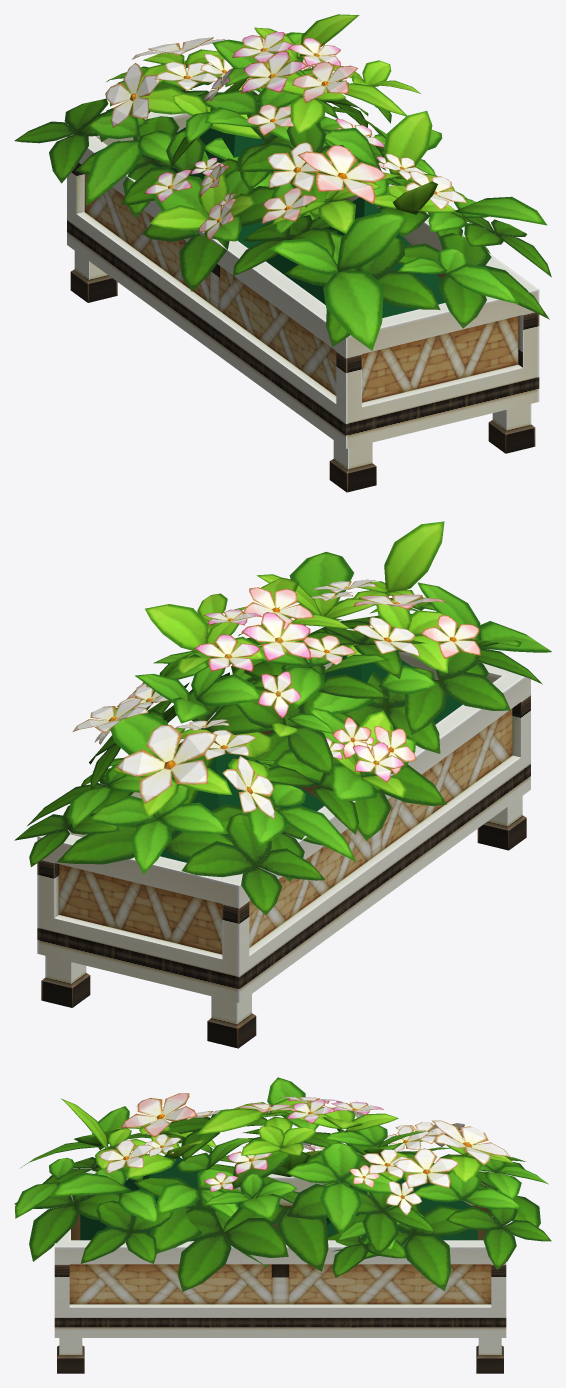
Rendered from my_sunshineresort_01_plantpot_04.glb.
The picture shows the model from 3 angles, top to bottom: view 1: azimuth 30°, elevation 25°; view 2: azimuth 150°, elevation 25°; view 3: azimuth 270°, elevation 25°; orthographic projection. The views are drawn at different scales.
Visible parts, largest first — view 1: my_sunshineresort_01_plantpot_04; view 2: my_sunshineresort_01_plantpot_04; view 3: my_sunshineresort_01_plantpot_04.
Part boxes in pixels (x1,y1,x2,y2): my_sunshineresort_01_plantpot_04: (14, 14, 551, 492); my_sunshineresort_01_plantpot_04: (14, 521, 551, 1048); my_sunshineresort_01_plantpot_04: (14, 1077, 551, 1373).
Bounding box in the file's own units: 0.00563 × 0.00566 × 0.0112.
Materials: 1 (1 with a texture image).
